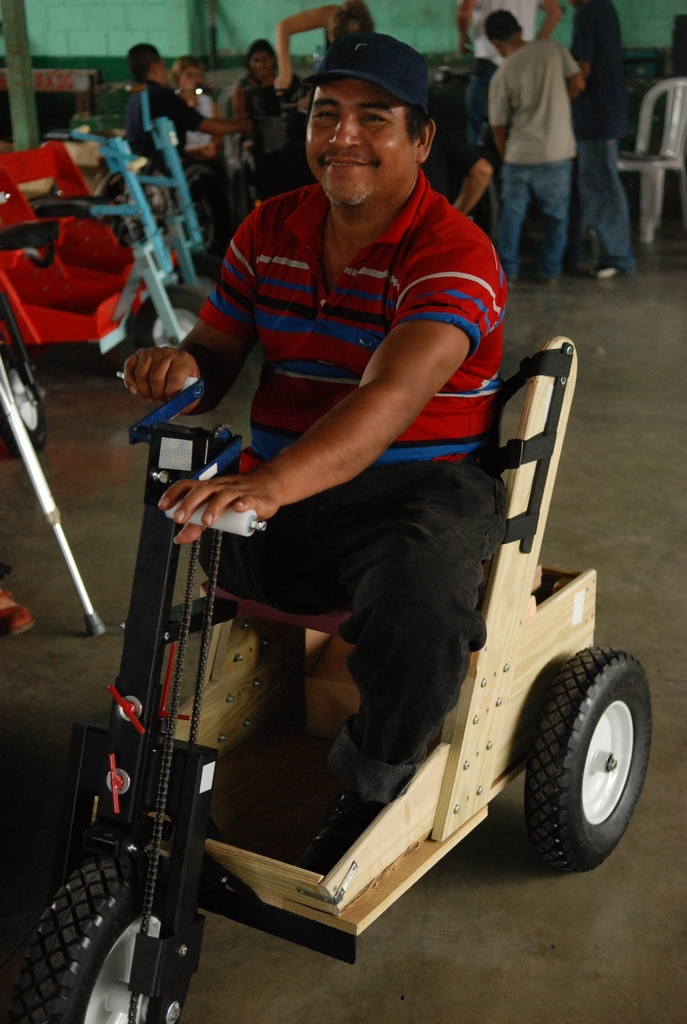Person: (125, 0, 641, 289)
